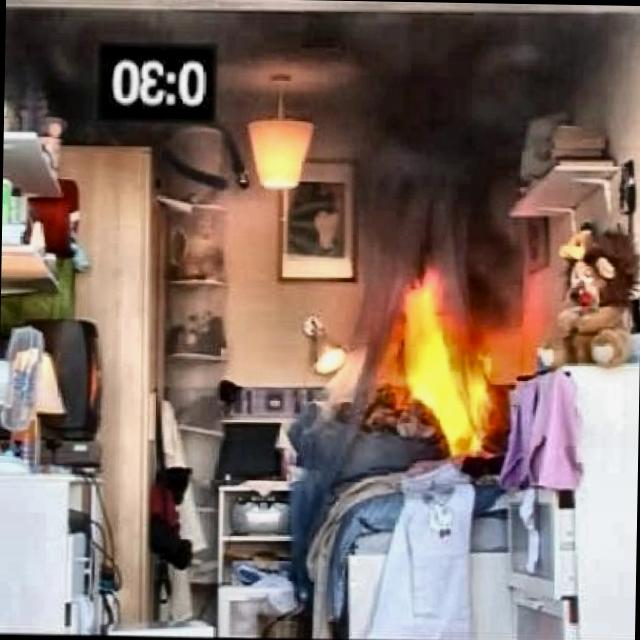fire: (398, 283, 509, 447)
